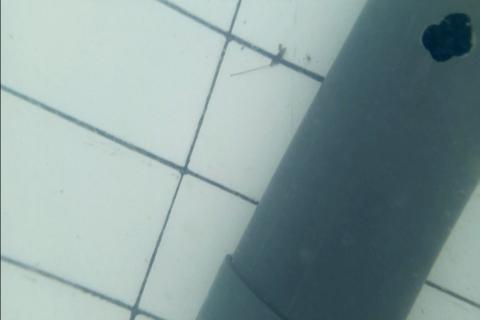kebocoran: (422, 9, 474, 63)
